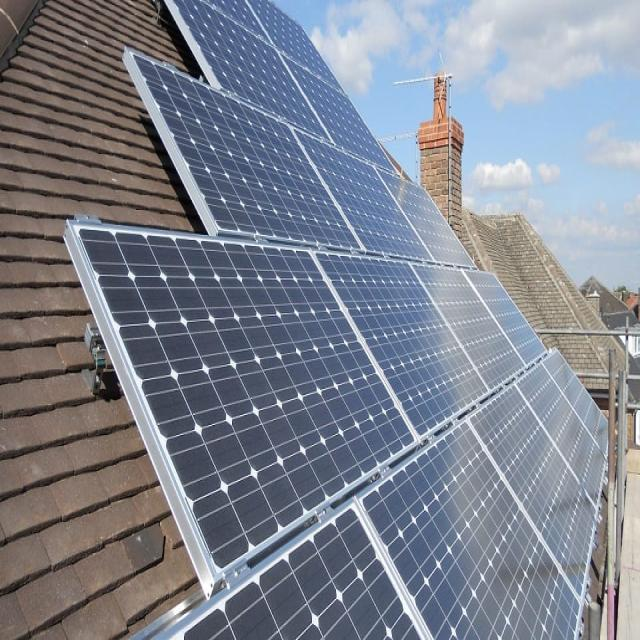clean-solar-panel: (64, 0, 606, 638)
